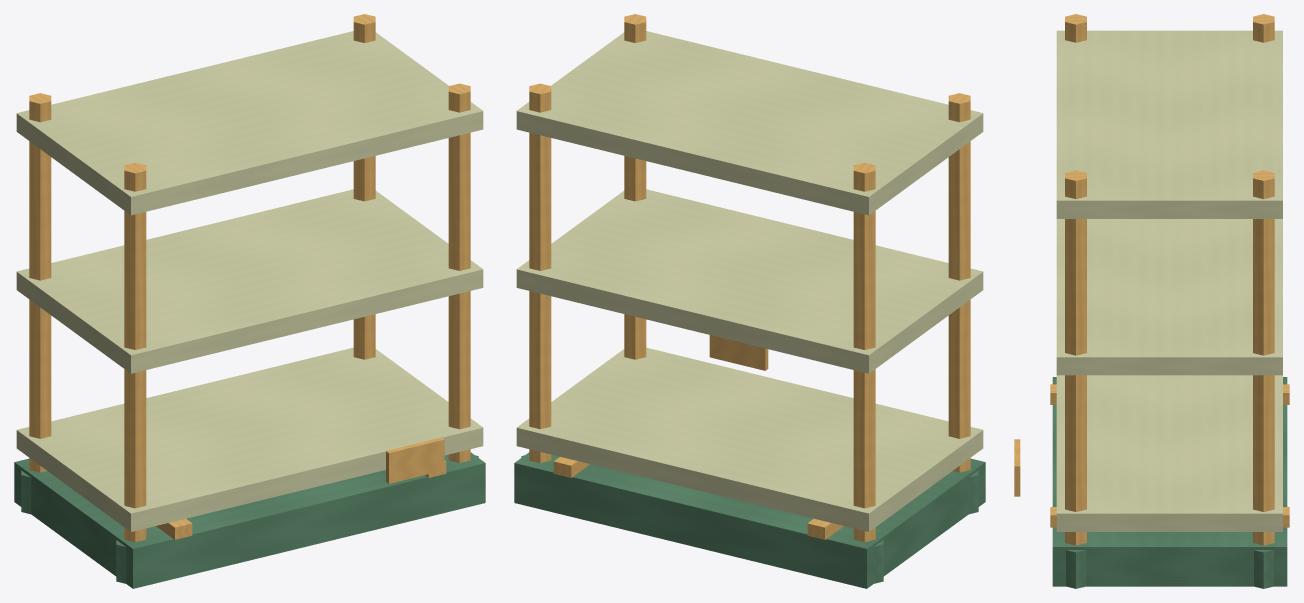
The model's file is atlas100-s007-a06.lod1.glb.
3 views of the same model, side by side, from view 1: azimuth 30°, elevation 25°; view 2: azimuth 150°, elevation 25°; view 3: azimuth 270°, elevation 25° (orthographic).
Visible parts, largest first — view 1: atlas100-s007-a06:part-013, atlas100-s007-a06:part-012, atlas100-s007-a06:part-011, atlas100-s007-a06:part-000, atlas100-s007-a06:part-005, atlas100-s007-a06:part-009, atlas100-s007-a06:part-003, atlas100-s007-a06:part-007, atlas100-s007-a06:part-014; view 2: atlas100-s007-a06:part-013, atlas100-s007-a06:part-012, atlas100-s007-a06:part-011, atlas100-s007-a06:part-000, atlas100-s007-a06:part-003, atlas100-s007-a06:part-007, atlas100-s007-a06:part-005, atlas100-s007-a06:part-009, atlas100-s007-a06:part-014; view 3: atlas100-s007-a06:part-013, atlas100-s007-a06:part-012, atlas100-s007-a06:part-011, atlas100-s007-a06:part-000, atlas100-s007-a06:part-007, atlas100-s007-a06:part-009, atlas100-s007-a06:part-008, atlas100-s007-a06:part-010, atlas100-s007-a06:part-003, atlas100-s007-a06:part-005, atlas100-s007-a06:part-014.
Part boxes in pixels (x1=…): atlas100-s007-a06:part-013: x1=16, y1=31, x2=483, y2=215; atlas100-s007-a06:part-012: x1=16, y1=189, x2=483, y2=373; atlas100-s007-a06:part-011: x1=16, y1=347, x2=483, y2=531; atlas100-s007-a06:part-000: x1=14, y1=452, x2=485, y2=588; atlas100-s007-a06:part-005: x1=124, y1=162, x2=146, y2=542; atlas100-s007-a06:part-009: x1=448, y1=83, x2=470, y2=462; atlas100-s007-a06:part-003: x1=29, y1=93, x2=51, y2=472; atlas100-s007-a06:part-007: x1=353, y1=14, x2=375, y2=359; atlas100-s007-a06:part-014: x1=386, y1=437, x2=444, y2=483; atlas100-s007-a06:part-013: x1=516, y1=31, x2=983, y2=215; atlas100-s007-a06:part-012: x1=516, y1=189, x2=983, y2=373; atlas100-s007-a06:part-011: x1=516, y1=347, x2=983, y2=531; atlas100-s007-a06:part-000: x1=514, y1=452, x2=985, y2=588; atlas100-s007-a06:part-003: x1=853, y1=162, x2=875, y2=542; atlas100-s007-a06:part-007: x1=529, y1=83, x2=551, y2=462; atlas100-s007-a06:part-005: x1=948, y1=93, x2=970, y2=472; atlas100-s007-a06:part-009: x1=624, y1=14, x2=646, y2=359; atlas100-s007-a06:part-014: x1=709, y1=335, x2=768, y2=370; atlas100-s007-a06:part-013: x1=1056, y1=30, x2=1282, y2=218; atlas100-s007-a06:part-012: x1=1056, y1=219, x2=1282, y2=375; atlas100-s007-a06:part-011: x1=1056, y1=375, x2=1282, y2=531; atlas100-s007-a06:part-000: x1=1052, y1=377, x2=1287, y2=586; atlas100-s007-a06:part-007: x1=1253, y1=170, x2=1274, y2=545; atlas100-s007-a06:part-009: x1=1065, y1=170, x2=1086, y2=545; atlas100-s007-a06:part-008: x1=1254, y1=550, x2=1273, y2=588; atlas100-s007-a06:part-010: x1=1066, y1=550, x2=1085, y2=588; atlas100-s007-a06:part-003: x1=1253, y1=14, x2=1274, y2=42; atlas100-s007-a06:part-005: x1=1065, y1=14, x2=1086, y2=42; atlas100-s007-a06:part-014: x1=1014, y1=439, x2=1020, y2=496.
Bounding box in the file's own units: 2.47 × 2.66 × 1.64.
3 materials, 3 textured.
